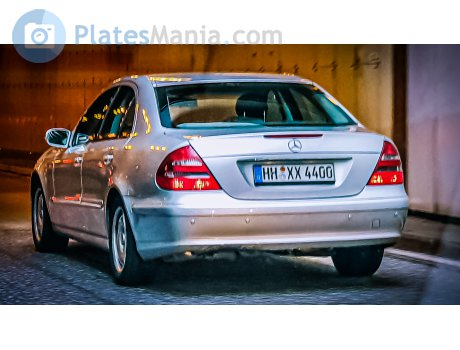License Plates: (263, 165, 331, 177)
